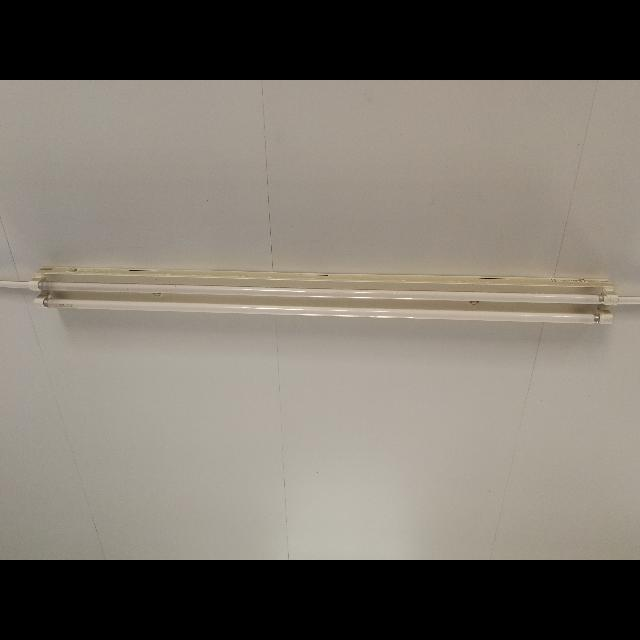Straight-Tube-Fluorescent-Lamp: (23, 258, 623, 340)
